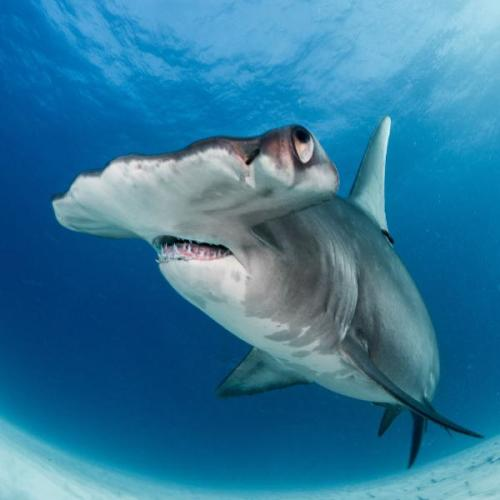shark-endangered: (52, 115, 487, 470)
